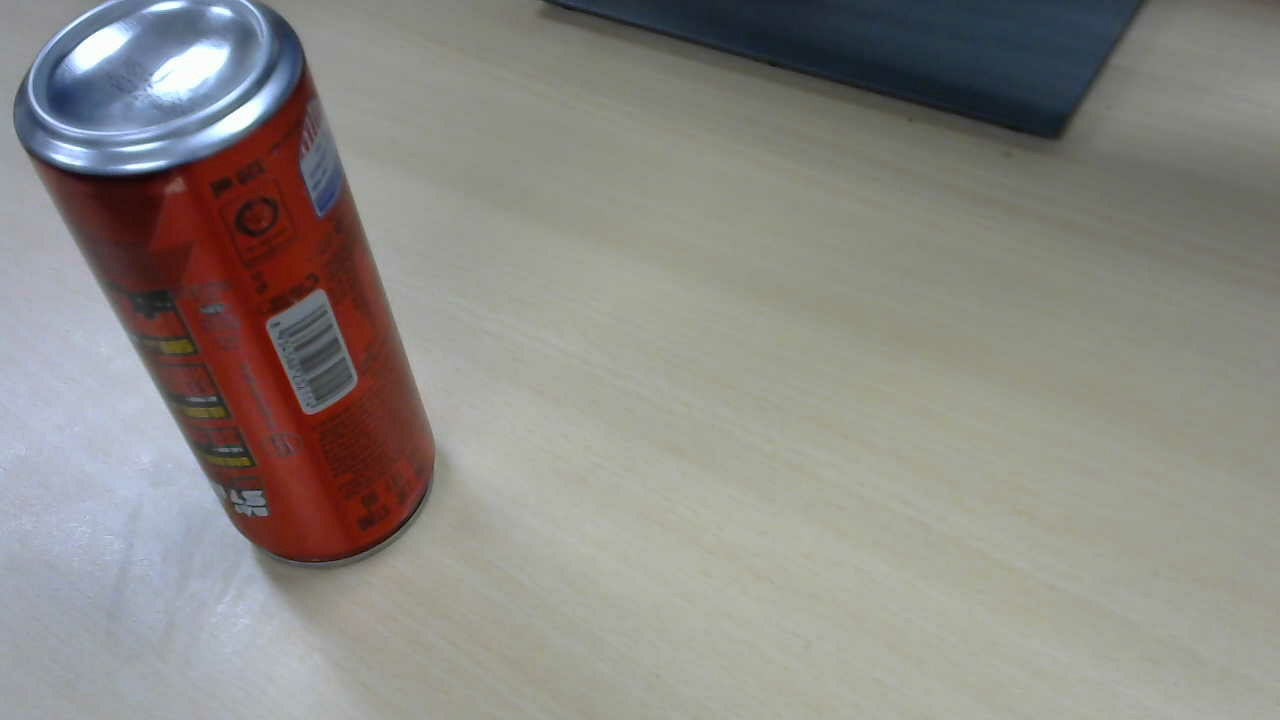Sting: (13, 4, 448, 583)
